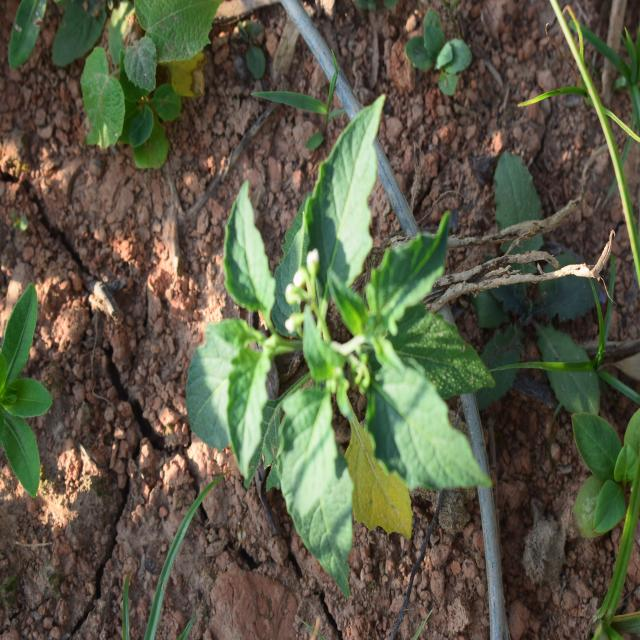Black_nightshade: (188, 109, 482, 536)
